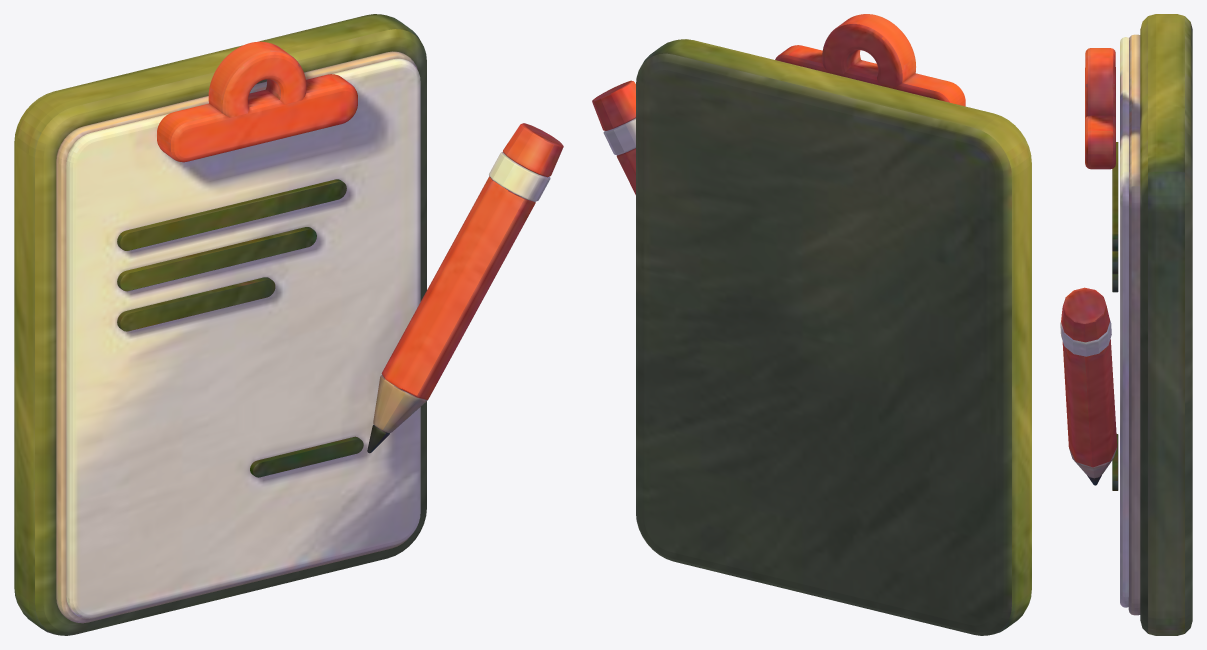
Rendered from editor.glb.
3 renders of one model, left to right at view 1: azimuth 30°, elevation 25°; view 2: azimuth 150°, elevation 25°; view 3: azimuth 270°, elevation 25°, orthographic. The views are drawn at different scales.
Visible parts, largest first — view 1: Clip • bar; view 2: Clip • bar; view 3: Clip • bar.
Boxes of the visible parts, x1,y1,x2,y2 form: Clip • bar: (14,14,563,635); Clip • bar: (592,14,1031,635); Clip • bar: (1060,14,1192,635).
Size of the model in its own units: 2.14 by 2.37 by 0.5564.
1 material, 1 textured.
